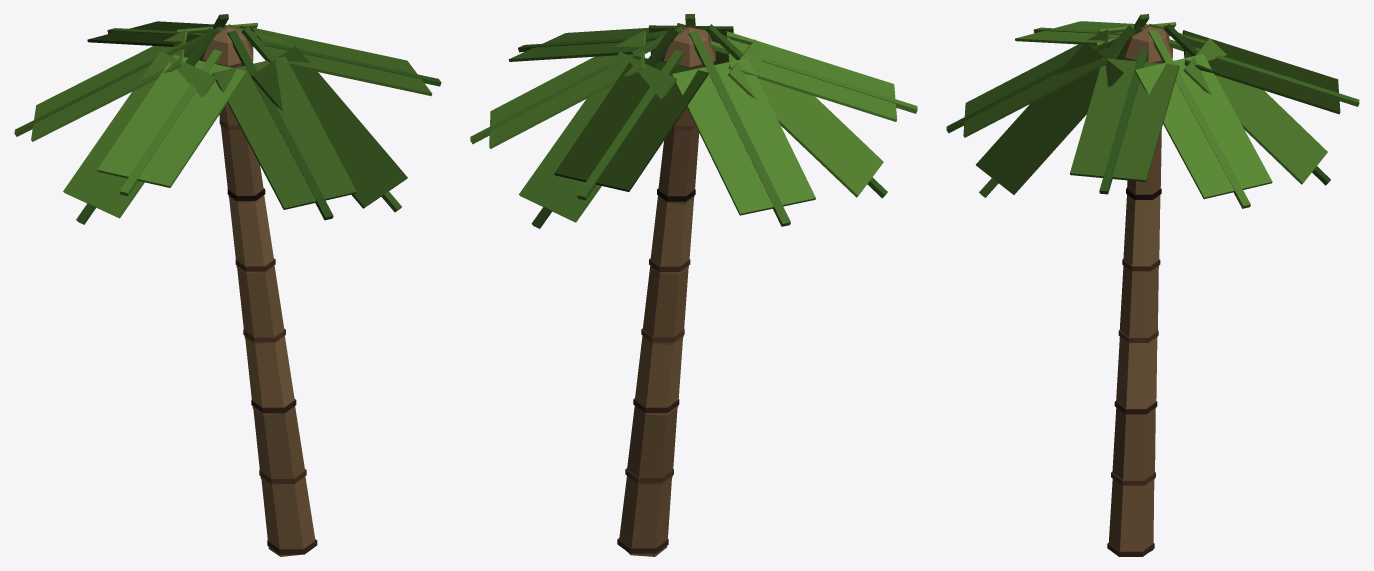
The model's file is palm_date.glb.
3 renders of one model, left to right at view 1: azimuth 30°, elevation 25°; view 2: azimuth 150°, elevation 25°; view 3: azimuth 270°, elevation 25°, orthographic. The views are drawn at different scales.
Parts seen in each view (by area): view 1: palm_date; view 2: palm_date; view 3: palm_date.
Part boxes in pixels (x1,y1,x2,y2): palm_date: [14, 14, 441, 556]; palm_date: [470, 14, 917, 556]; palm_date: [946, 14, 1359, 556].
Size of the model in its own units: 4.55 by 6.41 by 4.76.
